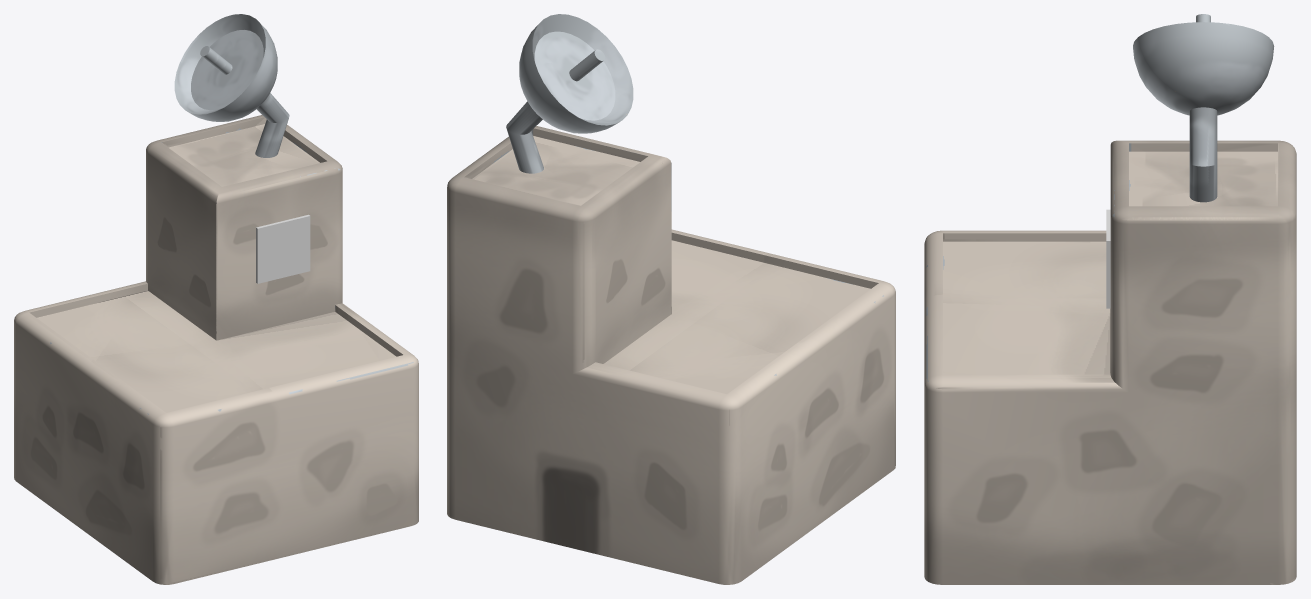
3 renders of one model, left to right at view 1: azimuth 30°, elevation 25°; view 2: azimuth 150°, elevation 25°; view 3: azimuth 270°, elevation 25°, orthographic. The views are drawn at different scales.
Visible parts, largest first — view 1: Cylinder, Window; view 2: Cylinder; view 3: Cylinder, Window.
Part boxes in pixels (x1,y1,x2,y2): Cylinder: [14, 14, 418, 584]; Window: [256, 214, 310, 283]; Cylinder: [447, 14, 895, 584]; Cylinder: [924, 14, 1296, 584]; Window: [1106, 209, 1110, 308].
Bounding box in the file's own units: 1000 × 1573 × 1000.
2 materials, 1 textured.
